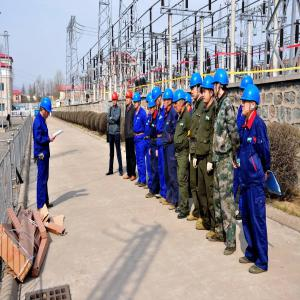blue: (241, 86, 263, 119), (213, 70, 229, 100), (201, 75, 215, 106), (190, 73, 203, 100), (39, 98, 53, 122), (240, 76, 254, 98), (174, 90, 186, 115), (163, 89, 174, 110), (153, 87, 163, 109), (134, 92, 143, 111), (149, 99, 157, 117), (185, 93, 193, 111)
red: (113, 92, 120, 108), (126, 91, 133, 106)
